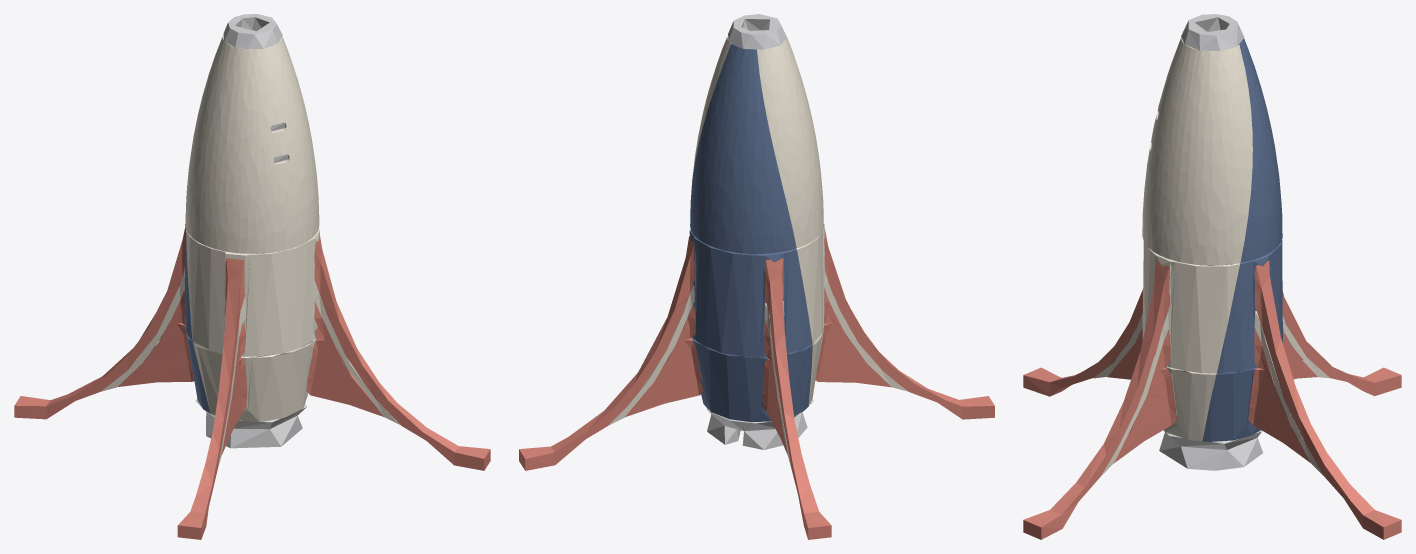
The model's file is rocket_d2.glb.
3 renders of one model, left to right at view 1: azimuth 30°, elevation 25°; view 2: azimuth 150°, elevation 25°; view 3: azimuth 270°, elevation 25°, orthographic. The views are drawn at different scales.
Parts seen in each view (by area): view 1: CreamNose, Vermilion, Cream, NickelCap, NickelNose, Navy; view 2: Vermilion, Navy, NavyNose, CreamNose, Cream, NickelCap, NickelNose; view 3: Vermilion, CreamNose, Cream, Navy, NavyNose, NickelCap, NickelNose.
Part boxes in pixels (x1,y1,x2,y2): CreamNose: (186,30,319,253); Vermilion: (14,228,490,539); Cream: (101,227,399,469); NickelCap: (196,399,306,448); NickelNose: (223,14,287,162); Navy: (185,224,210,413); Vermilion: (519,228,994,539); Navy: (689,230,812,422); NavyNose: (690,43,796,254); CreamNose: (691,34,823,248); Cream: (608,223,906,467); NickelCap: (707,399,813,449); NickelNose: (728,14,786,49); Vermilion: (1023,260,1401,539); CreamNose: (1142,31,1252,265); Cream: (1093,242,1329,475); Navy: (1202,240,1282,441); NavyNose: (1239,38,1282,262); NickelCap: (1159,430,1262,470); NickelNose: (1181,14,1244,51).
Size of the model in its own units: 0.1782 by 0.226 by 0.1782.
